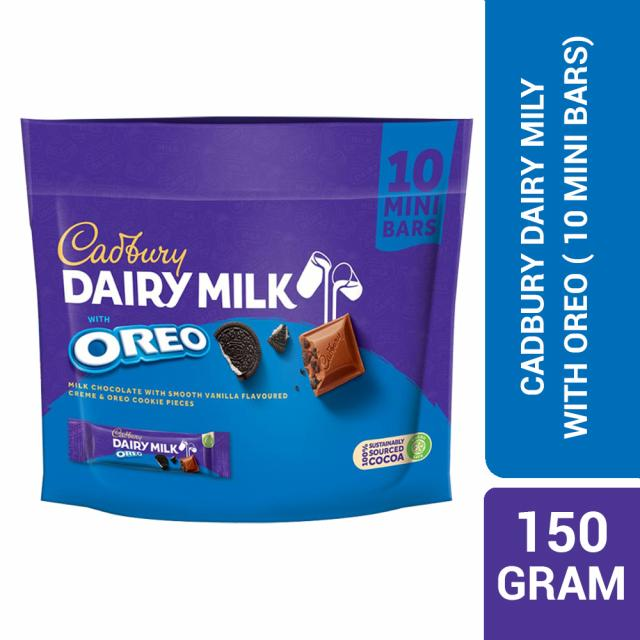cadbury: (25, 124, 466, 505)
